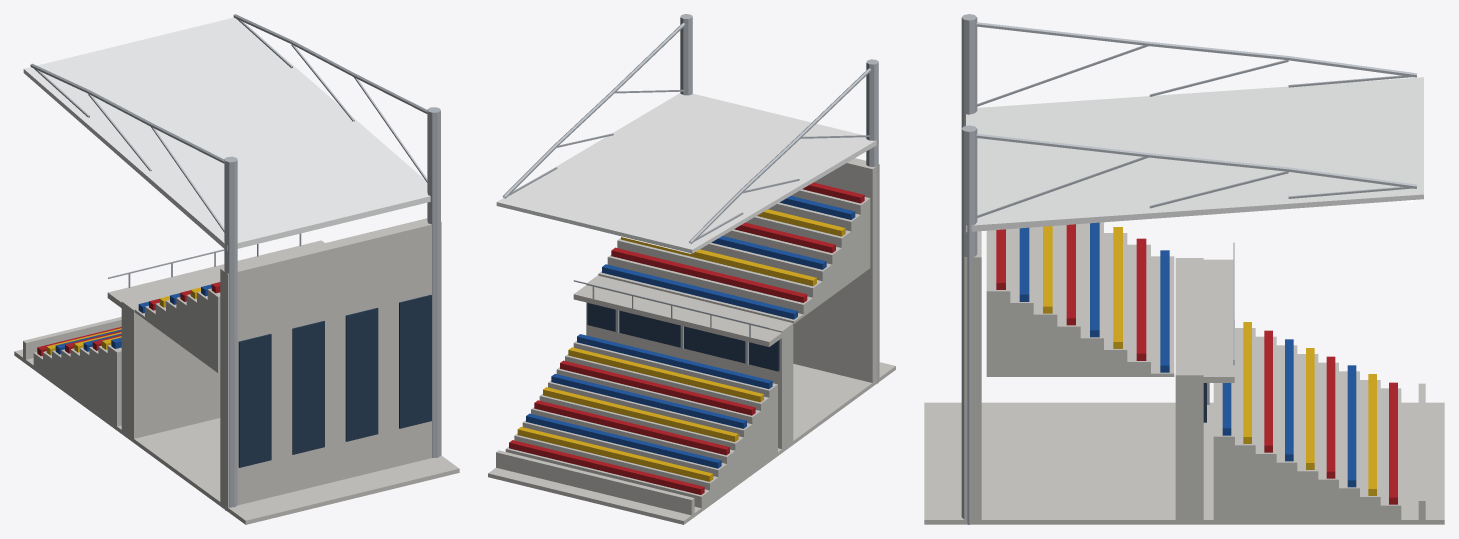
Rendered from grada-principal-bcn.glb.
3 views of the same model, side by side, from view 1: azimuth 30°, elevation 25°; view 2: azimuth 150°, elevation 25°; view 3: azimuth 270°, elevation 25° (orthographic). The views are drawn at different scales.
Parts seen in each view (by area): view 1: grada-principal-bcn; view 2: grada-principal-bcn; view 3: grada-principal-bcn.
Boxes of the visible parts, x1,y1,x2,y2 form: grada-principal-bcn: (14,14,459,524); grada-principal-bcn: (488,14,895,524); grada-principal-bcn: (924,14,1444,524).
Bounding box in the file's own units: 16.1 × 25 × 30.
